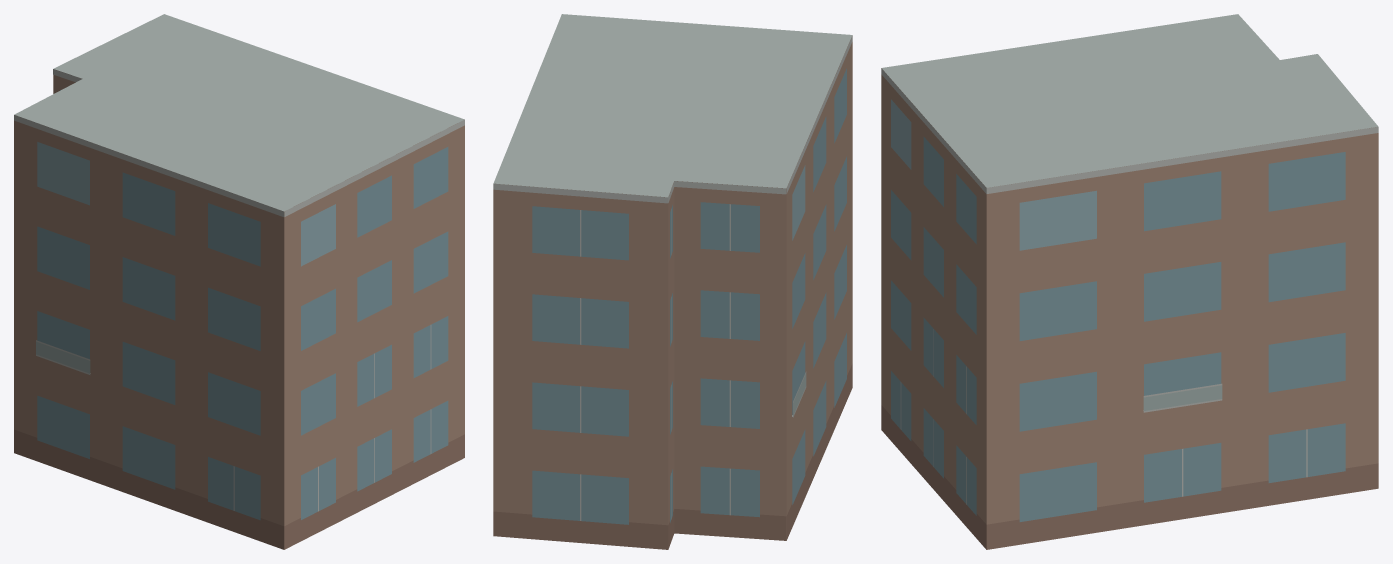
File: survey-upis-32853011.glb
3 views of the same model, side by side, from view 1: azimuth 30°, elevation 25°; view 2: azimuth 150°, elevation 25°; view 3: azimuth 270°, elevation 25° (orthographic). The views are drawn at different scales.
Visible parts, largest first — view 1: survey-upis-32853011.tmp; view 2: survey-upis-32853011.tmp; view 3: survey-upis-32853011.tmp.
Part boxes in pixels (box(x1,y1,x2,y2)): survey-upis-32853011.tmp: box(14, 14, 464, 549); survey-upis-32853011.tmp: box(493, 14, 852, 549); survey-upis-32853011.tmp: box(881, 14, 1378, 549).
Bounding box in the file's own units: 14.56 × 14.12 × 17.59.
